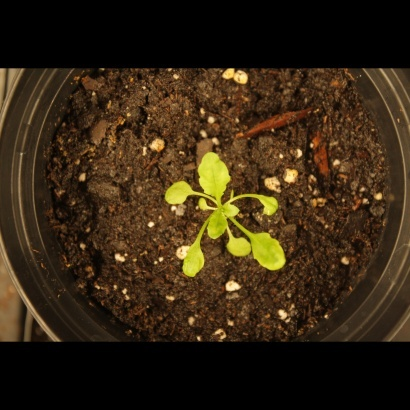leaf: (192, 146, 238, 199), (245, 231, 292, 273), (178, 238, 209, 285), (160, 176, 196, 209), (251, 186, 283, 221), (225, 232, 254, 264), (203, 213, 230, 241), (221, 200, 244, 223), (193, 196, 216, 219)
